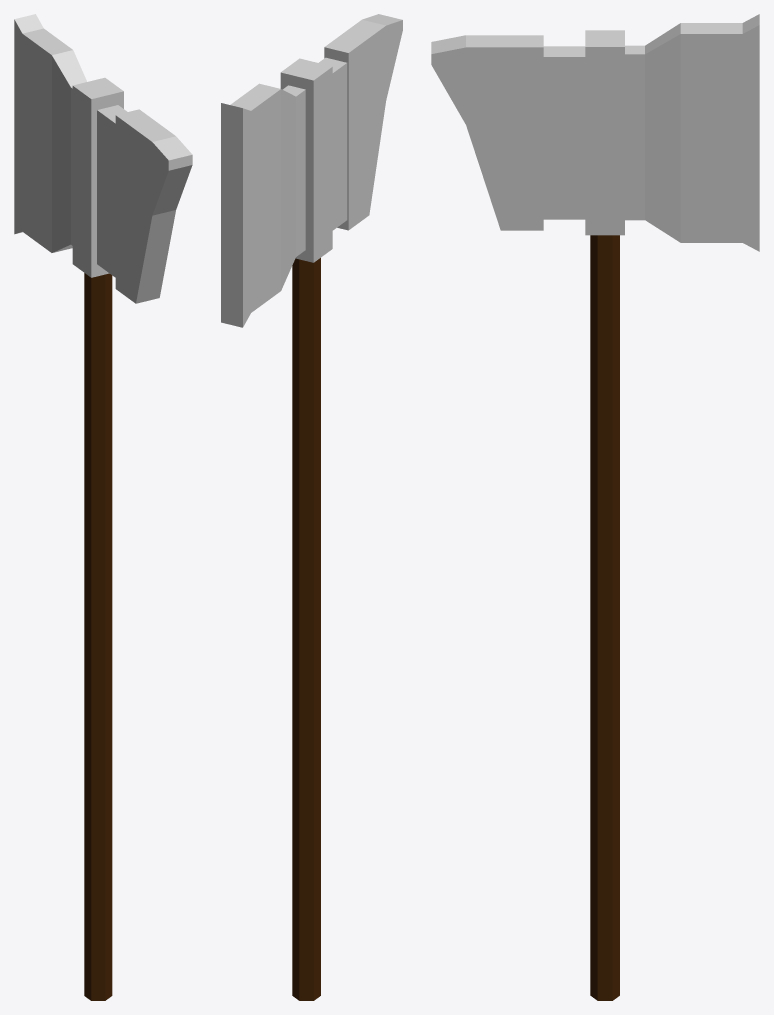
The model's file is axe.fbx.
3 views of the same model, side by side, from view 1: azimuth 30°, elevation 25°; view 2: azimuth 150°, elevation 25°; view 3: azimuth 270°, elevation 25° (orthographic). The views are drawn at different scales.
Visible parts, largest first — view 1: Cylinder.001, Cylinder; view 2: Cylinder.001, Cylinder; view 3: Cylinder.001, Cylinder.
Part boxes in pixels (x1,y1,x2,y2): Cylinder.001: [14, 14, 192, 303]; Cylinder: [84, 273, 112, 1000]; Cylinder.001: [221, 14, 402, 327]; Cylinder: [292, 258, 320, 1000]; Cylinder.001: [431, 14, 759, 251]; Cylinder: [590, 235, 619, 1000].
Size of the model in its own units: 200 by 5449 by 1660.
